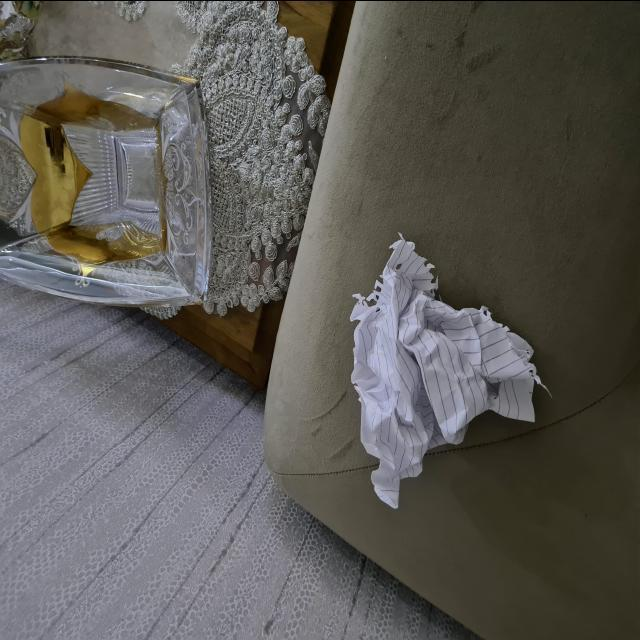Paper: (346, 227, 530, 499)
